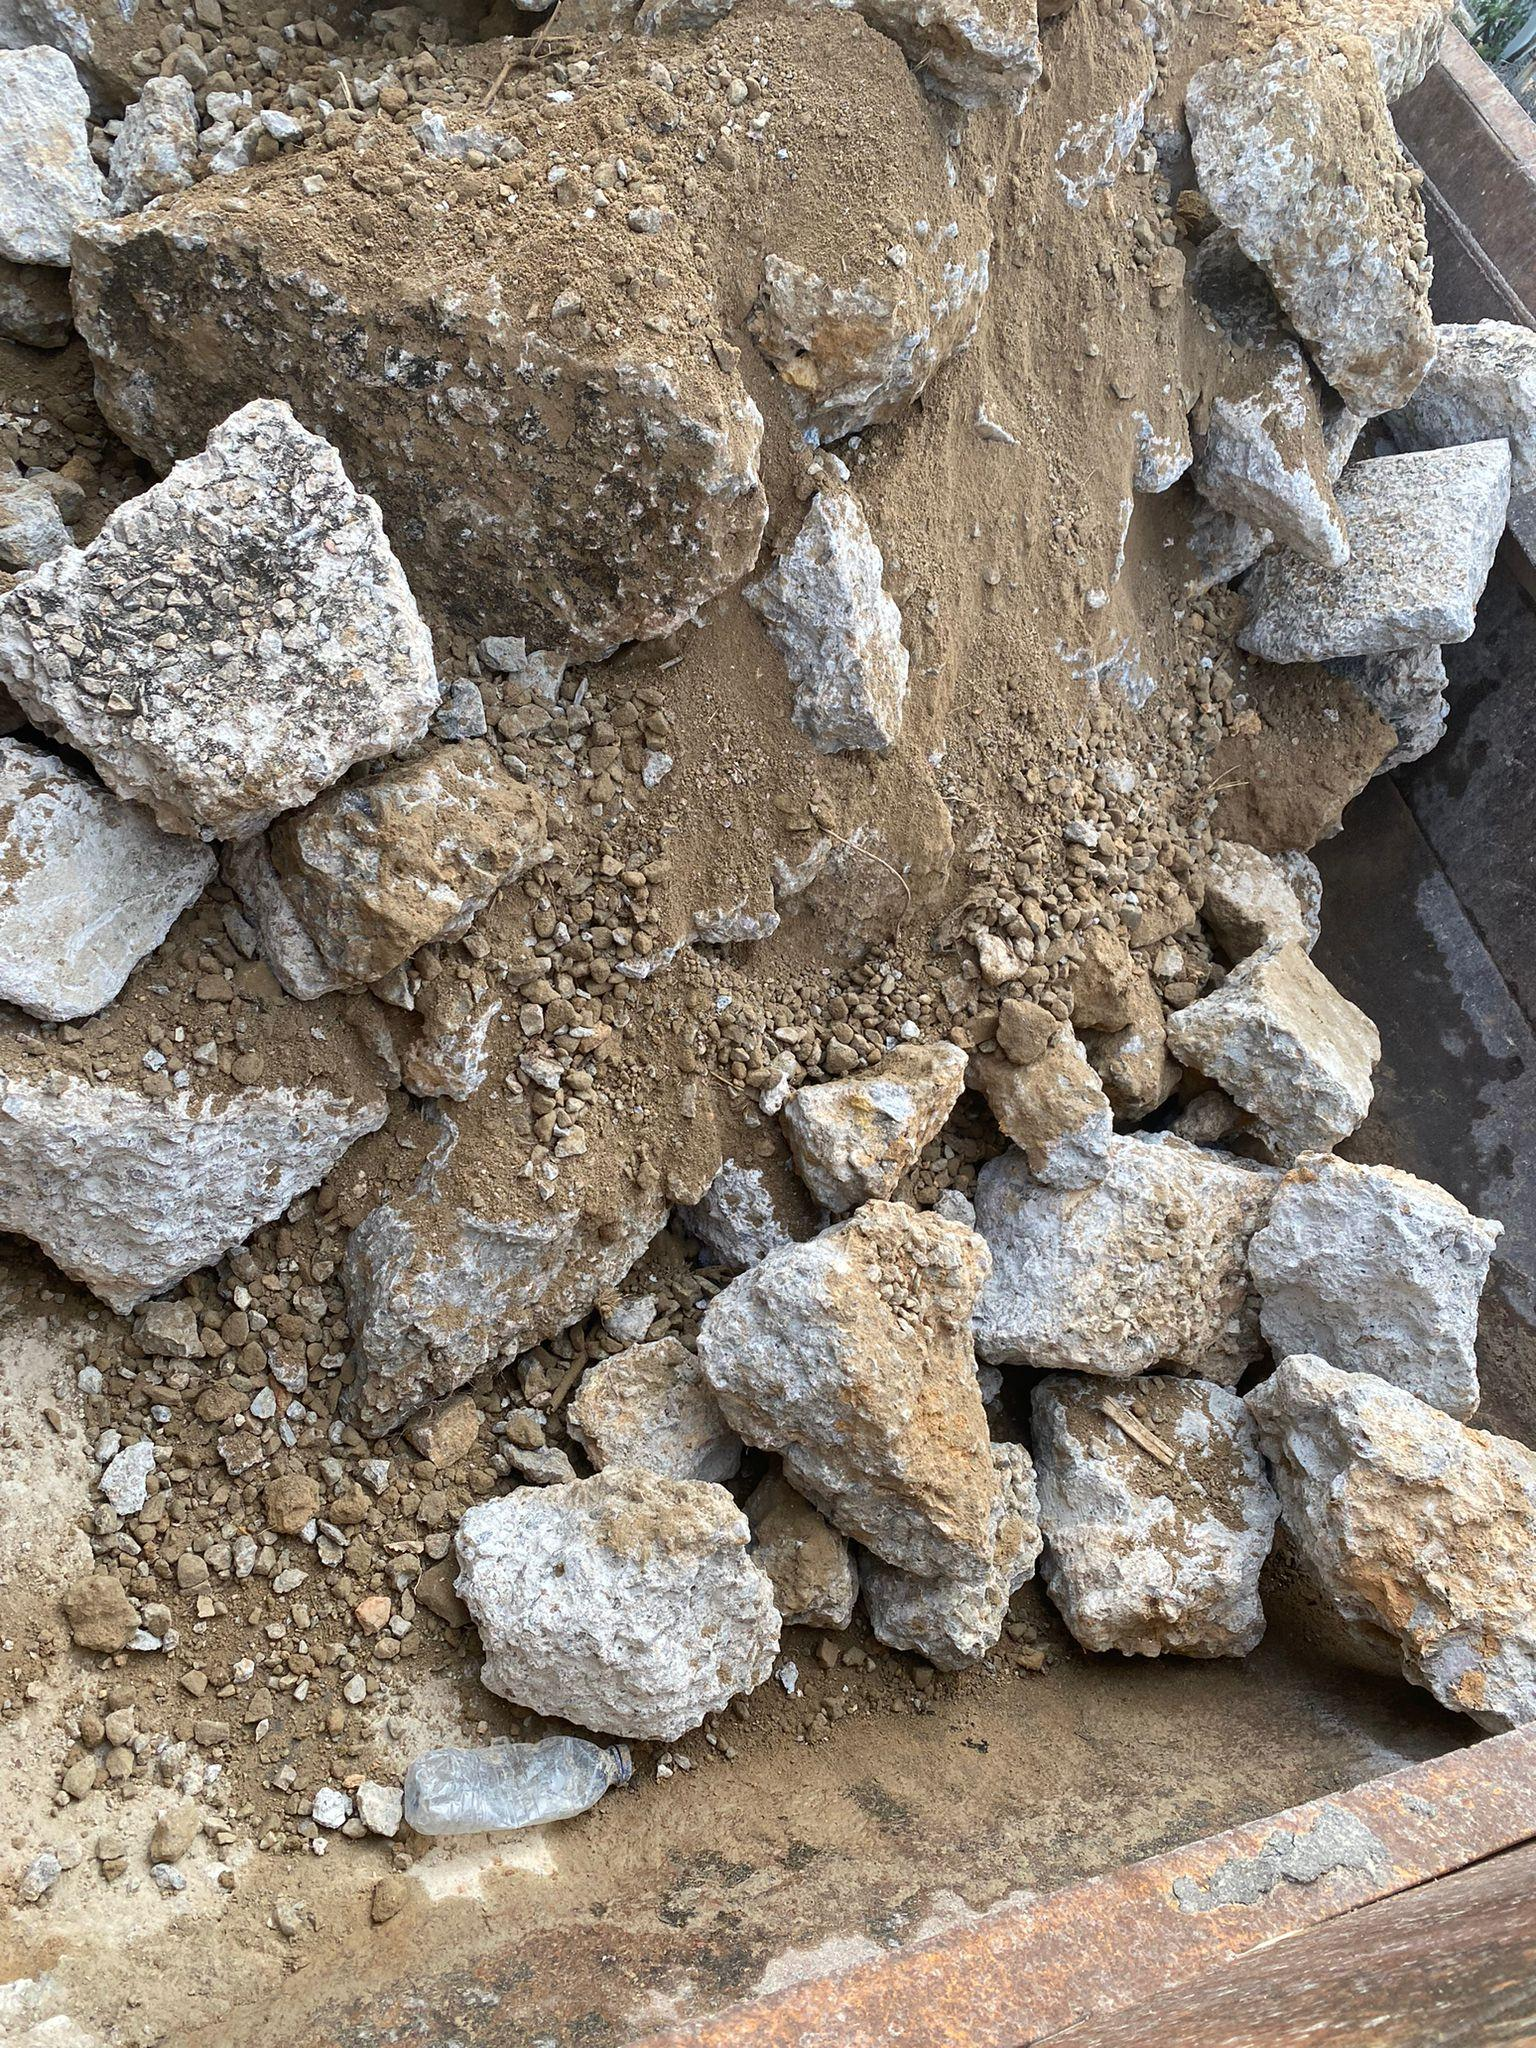dry: (23, 27, 1183, 1487)
